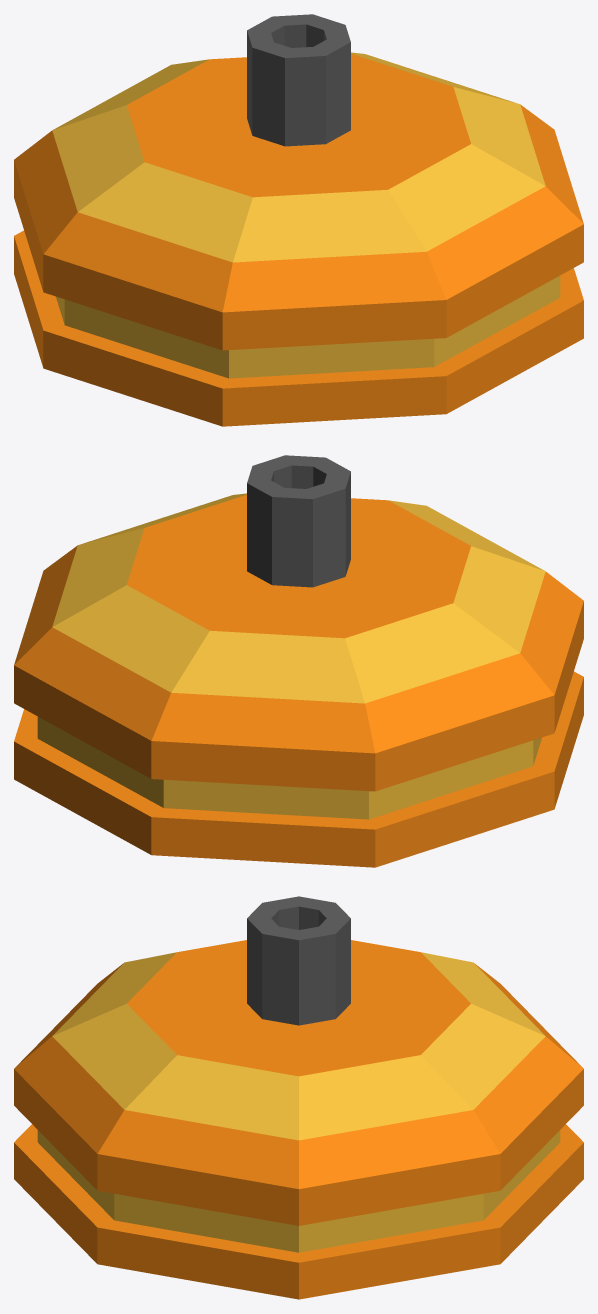
Rendered from o2Tank.fbx.
3 renders of one model, top to bottom at view 1: azimuth 30°, elevation 25°; view 2: azimuth 150°, elevation 25°; view 3: azimuth 270°, elevation 25°, orthographic. The views are drawn at different scales.
Visible parts, largest first — view 1: O2 cylinder; view 2: O2 cylinder; view 3: O2 cylinder.
Part boxes in pixels (x1,y1,x2,y2): O2 cylinder: (14,14,583,426); O2 cylinder: (14,455,583,867); O2 cylinder: (14,896,583,1299).
Size of the model in its own units: 468 by 236 by 468.
